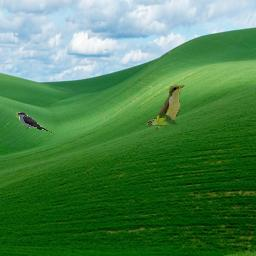Cuckoo: (146, 84, 186, 131), (16, 112, 54, 135)
